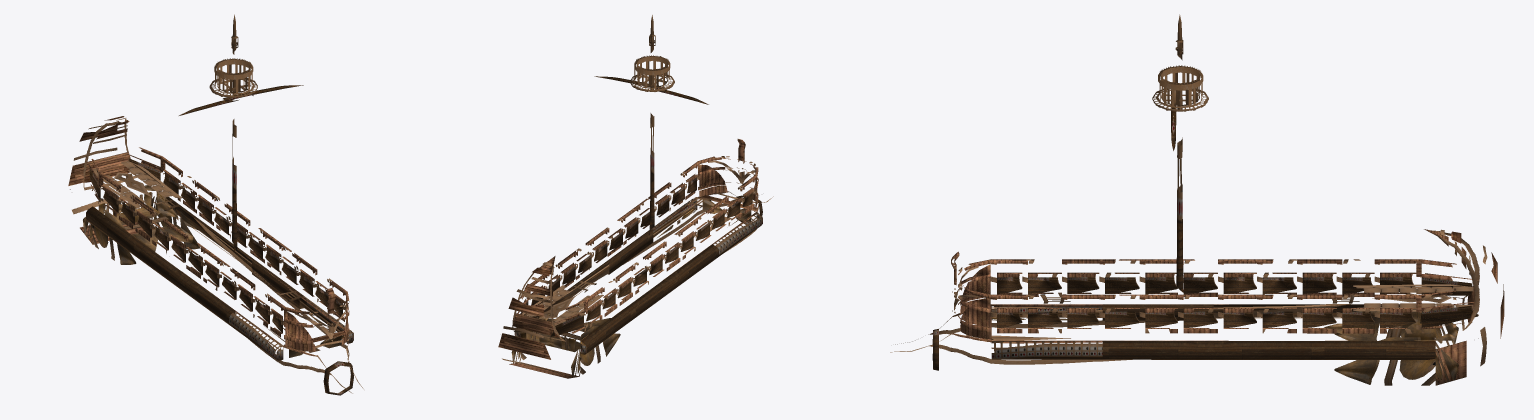
The model's file is kart_bireme.dae.
3 renders of one model, left to right at view 1: azimuth 30°, elevation 25°; view 2: azimuth 150°, elevation 25°; view 3: azimuth 270°, elevation 25°, orthographic. The views are drawn at different scales.
Visible parts, largest first — view 1: Plane; view 2: Plane; view 3: Plane.
Part boxes in pixels (left/top/right/bottom): Plane: left=68, top=14, right=363, bottom=395; Plane: left=498, top=15, right=773, bottom=378; Plane: left=890, top=14, right=1504, bottom=385.
Size of the model in its own units: 18.04 by 21.61 by 36.29.
